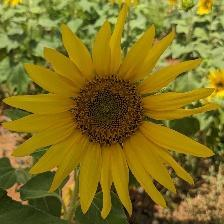sunflower: (3, 1, 221, 222), (206, 67, 224, 99), (197, 1, 214, 18)
